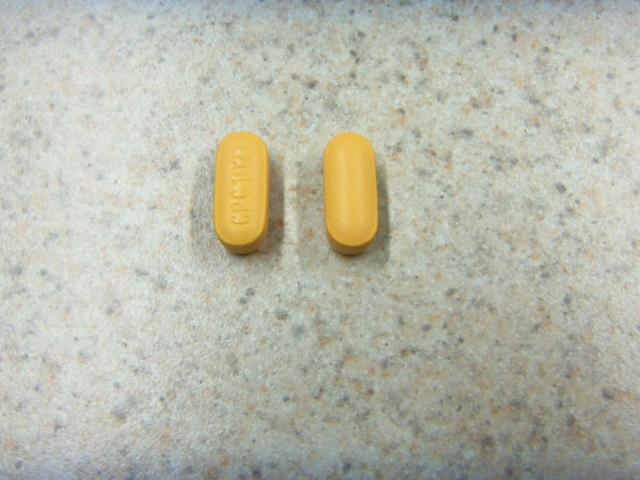0: (230, 166, 254, 176)
1: (230, 176, 254, 187)
2: (230, 154, 253, 166)
7: (229, 143, 256, 154)
C: (228, 214, 258, 227), (227, 188, 256, 200)
P: (228, 201, 257, 214)
